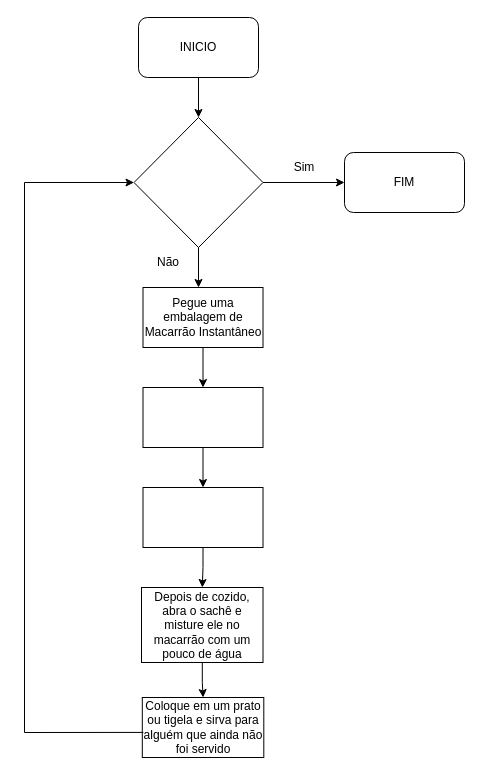
The diagram is 482 pixels wide and 775 high, and some of its shapes have lost their labels. The box of each missing label's shape, as (x1, y1, x2, y2) in pixels:
Coloque o macarrão em uma panela com água e leve ao fogo: (142, 486, 263, 548)
Retire o macarrão da embalagem e separe o tempero em sachê: (142, 386, 263, 448)
Todas as pessoas Foram servidas?: (133, 116, 263, 248)
